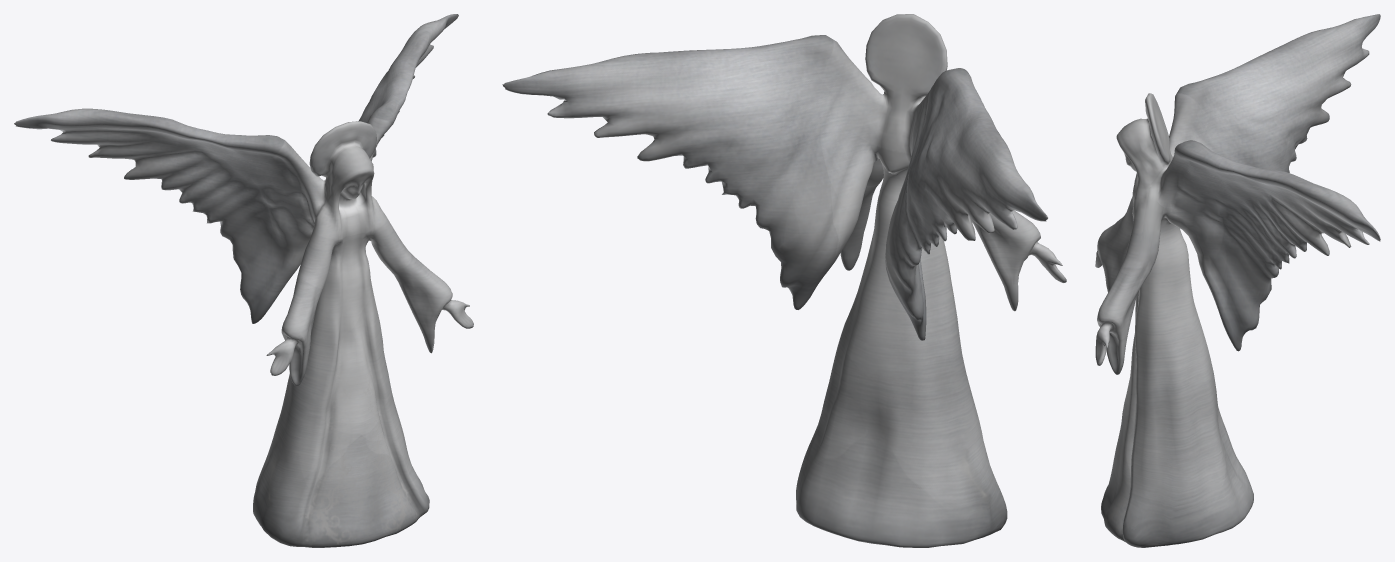
The model's file is angel_statue.glb.
The picture shows the model from 3 angles, left to right: view 1: azimuth 30°, elevation 25°; view 2: azimuth 150°, elevation 25°; view 3: azimuth 270°, elevation 25°; orthographic projection. The views are drawn at different scales.
Visible parts, largest first — view 1: Group5651; view 2: Group5651; view 3: Group5651.
Boxes of the visible parts, bbox=[...] form: Group5651: bbox=[14, 14, 473, 547]; Group5651: bbox=[502, 14, 1066, 547]; Group5651: bbox=[1095, 14, 1380, 547].
Bounding box in the file's own units: 158 × 138 × 85.14.
1 material, 1 textured.
